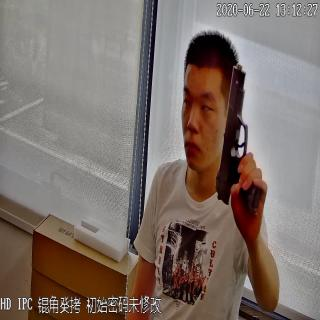gun: (213, 63, 264, 217)
